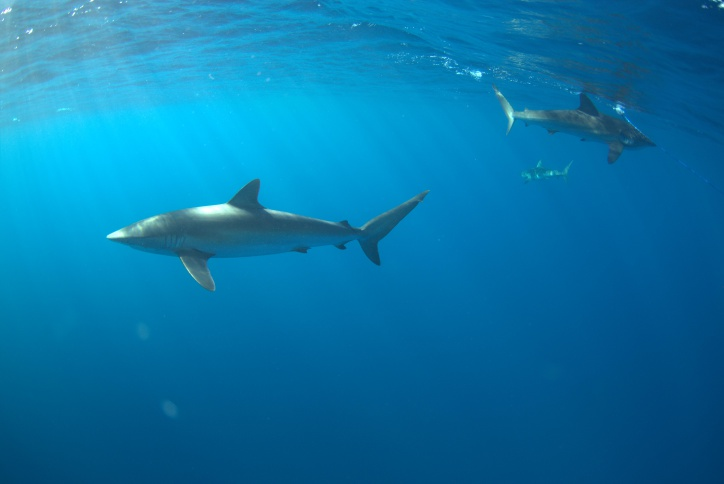Sedoso: (103, 169, 435, 295)
